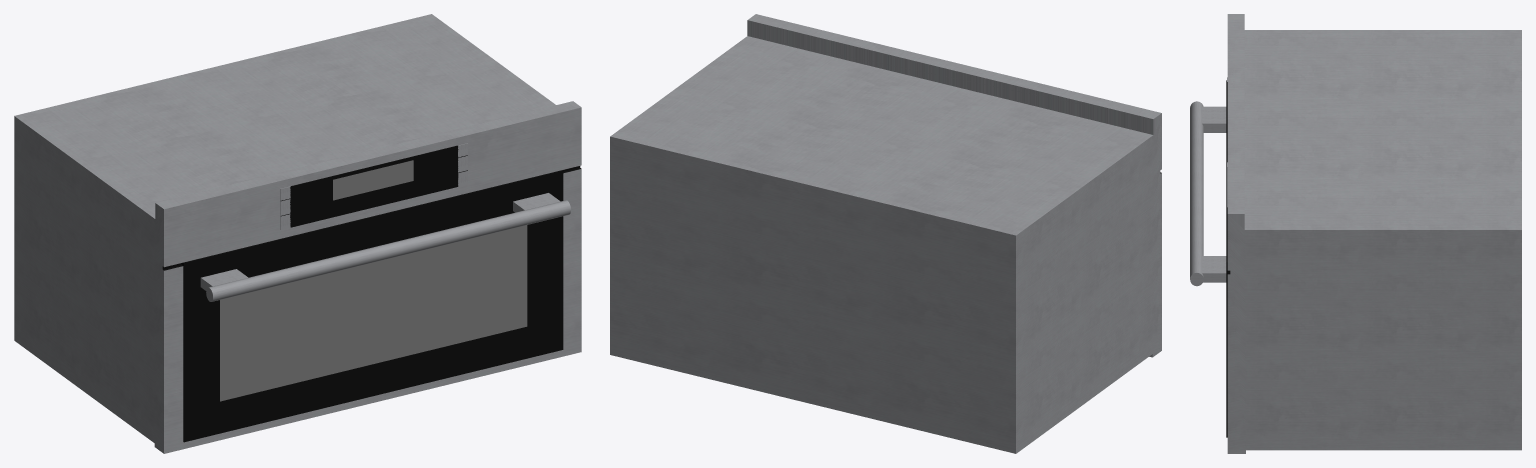
The model's file is OVEN-35.glb.
The picture shows the model from 3 angles, left to right: view 1: azimuth 30°, elevation 25°; view 2: azimuth 150°, elevation 25°; view 3: azimuth 270°, elevation 25°; orthographic projection. The views are drawn at different scales.
Visible parts, largest first — view 1: Oven_24; view 2: Oven_24; view 3: Oven_24.
Boxes of the visible parts, bbox=[...] form: Oven_24: bbox=[14, 14, 581, 453]; Oven_24: bbox=[610, 14, 1161, 453]; Oven_24: bbox=[1190, 14, 1521, 453].
Size of the model in its own units: 879 by 492 by 617.
Materials: 3 (1 with a texture image).
